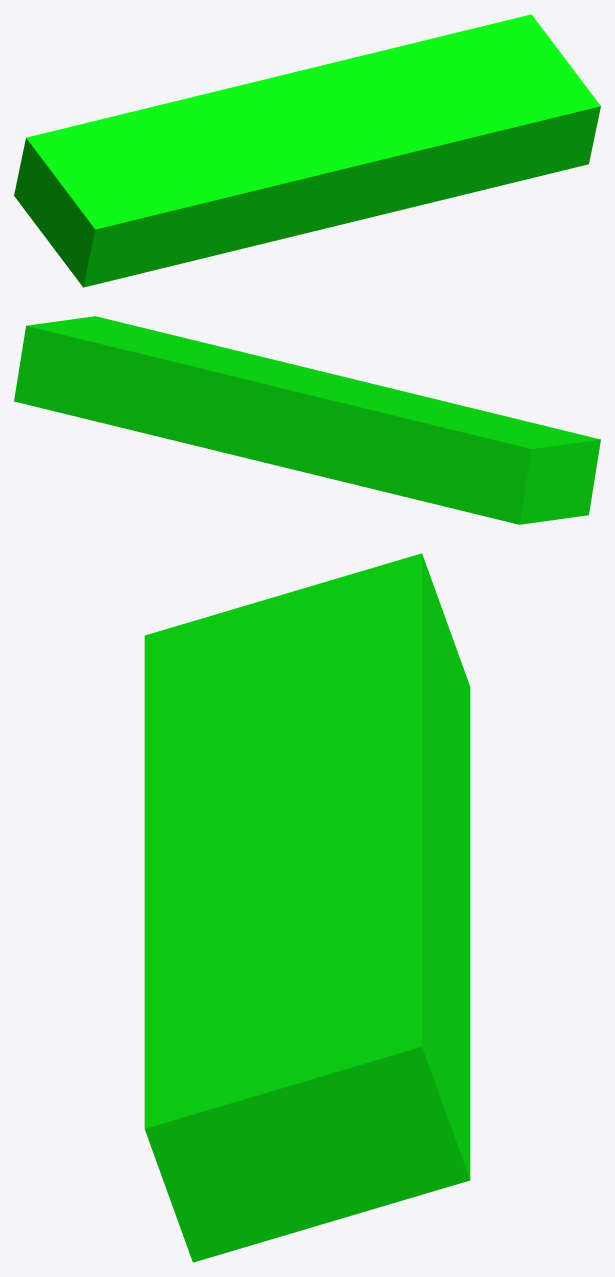
Rendered from Green_button.glb.
3 views of the same model, one above another, from view 1: azimuth 30°, elevation 25°; view 2: azimuth 150°, elevation 25°; view 3: azimuth 270°, elevation 25° (orthographic). The views are drawn at different scales.
Parts seen in each view (by area): view 1: Button.002; view 2: Button.002; view 3: Button.002.
Boxes of the visible parts, <box> form: Button.002: <box>14,14,600,287</box>; Button.002: <box>14,316,600,524</box>; Button.002: <box>144,553,470,1262</box>.
Size of the model in its own units: 0.3933 by 0.0803 by 0.1097.
1 material, 1 textured.
